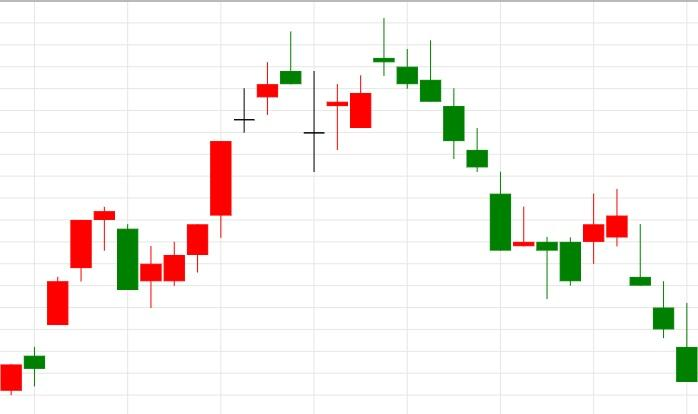evening_star_fall: (0, 206, 139, 395)
